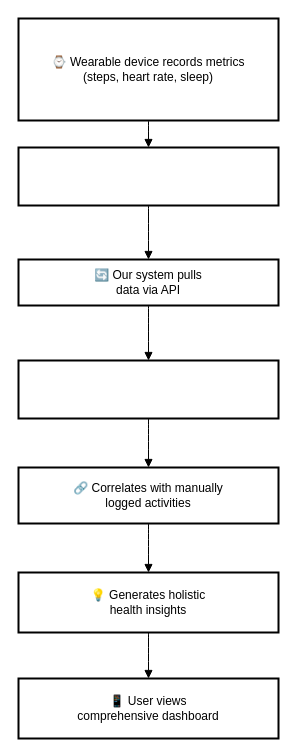
Some shapes in this 296 by 756 pixel diagram are drawn without their labels. The shapes that lost their labels are listed below. From the top down, each one's centre as x and y in pixels, then its label:
At point (148, 176): "☁️ Syncs to device manufacturer's cloud".
At point (148, 389): "🔍 System normalizes and integrates with user profile".
